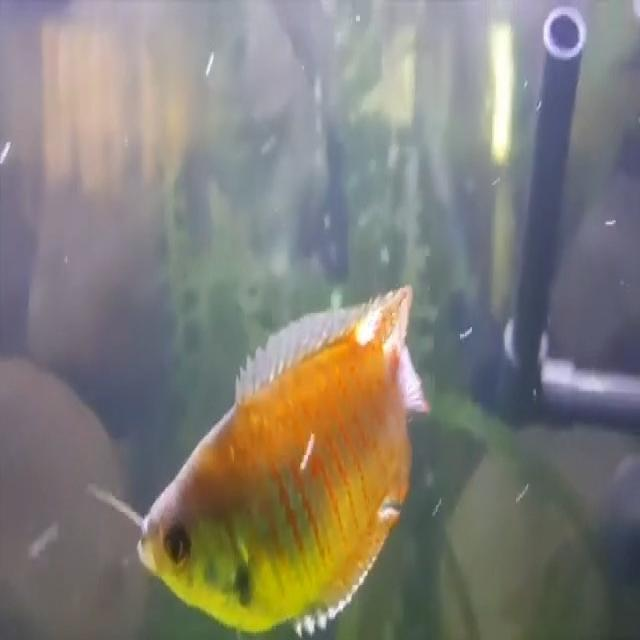fish: (134, 280, 432, 637)
